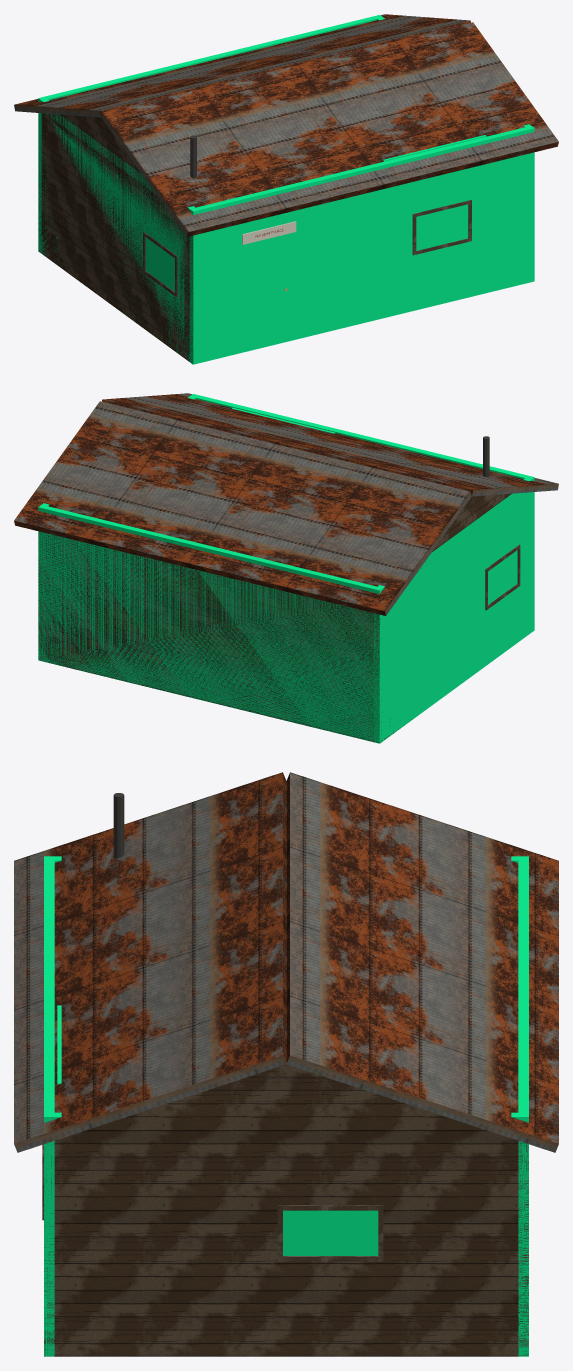
Rendered from hq_shed.glb.
3 views of the same model, one above another, from view 1: azimuth 30°, elevation 25°; view 2: azimuth 150°, elevation 25°; view 3: azimuth 270°, elevation 25° (orthographic). The views are drawn at different scales.
Parts seen in each view (by area): view 1: HQ_Shed, COL_hq_s1, COL_hq_w0, COL_hq_s0, COL_Door_HQ, COL_hq_n0, COL_hq_e0; view 2: HQ_Shed, COL_hq_n0, COL_hq_w0, COL_hq_s1; view 3: HQ_Shed, COL_hq_n0, COL_hq_e0, COL_hq_s1, HQ_Stove.
Boxes of the visible parts, x1,y1,x2,y2 form: HQ_Shed: (14,14,558,361); COL_hq_s1: (288,126,534,340); COL_hq_w0: (38,97,198,364); COL_hq_s0: (189,196,246,364); COL_Door_HQ: (244,185,290,351); COL_hq_n0: (38,16,377,253); COL_hq_e0: (374,15,534,282); HQ_Shed: (14,393,558,742); COL_hq_n0: (38,506,383,743); COL_hq_w0: (374,477,534,743); COL_hq_s1: (190,394,436,456); HQ_Shed: (14,772,558,1356); COL_hq_n0: (518,860,528,1356); COL_hq_e0: (54,1112,528,1255); COL_hq_s1: (44,930,54,1356); HQ_Stove: (113,793,124,858).
Size of the model in its own units: 7.6 by 4.01 by 6.18.
24 materials, 7 textured.
